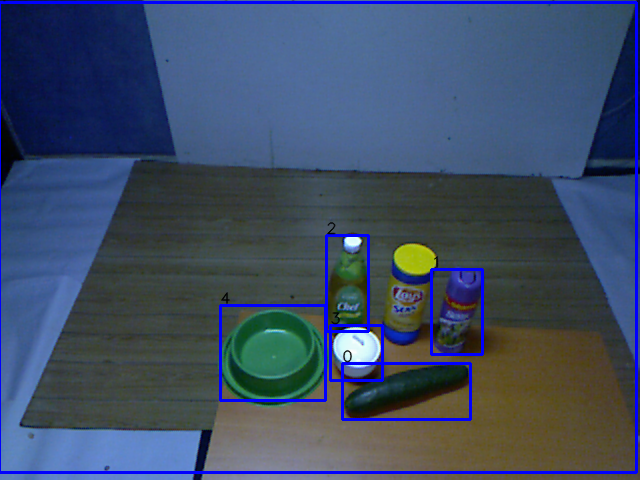aceite: (317, 227, 376, 338)
aerosol: (432, 262, 487, 364)
azucarero: (327, 322, 385, 382)
papas: (377, 243, 440, 351)
pepino: (337, 360, 474, 420)
platoperro: (214, 309, 329, 407)
